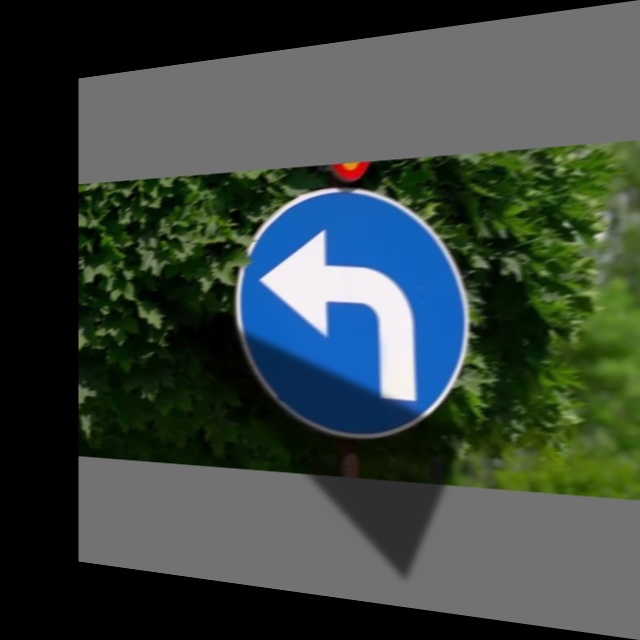Compulsory_Turn_Left_Ahead: (234, 179, 467, 440)
